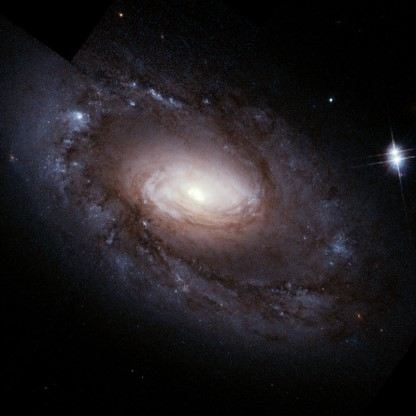NGC 4102: (21, 30, 409, 355)
